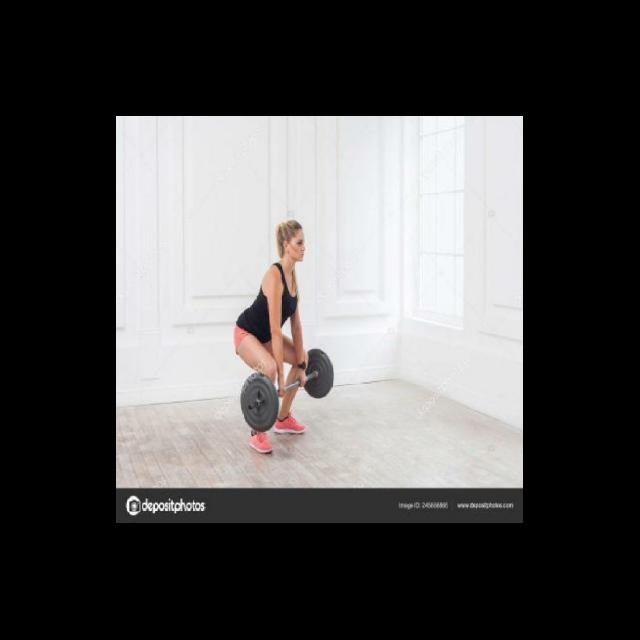barbell: (236, 374, 282, 432)
